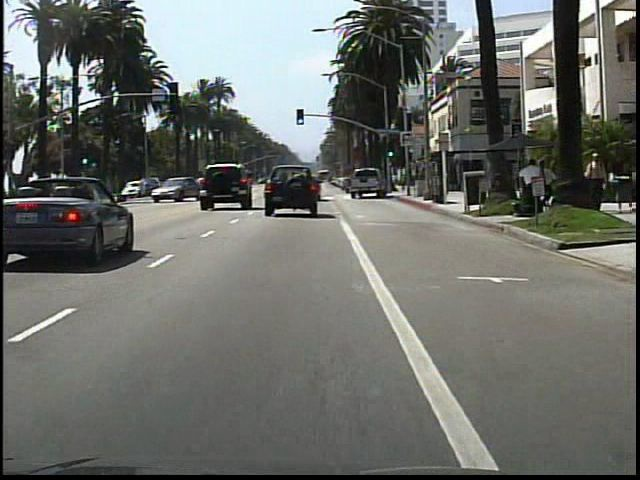person: (516, 157, 543, 220), (582, 150, 607, 214), (536, 158, 559, 220)
